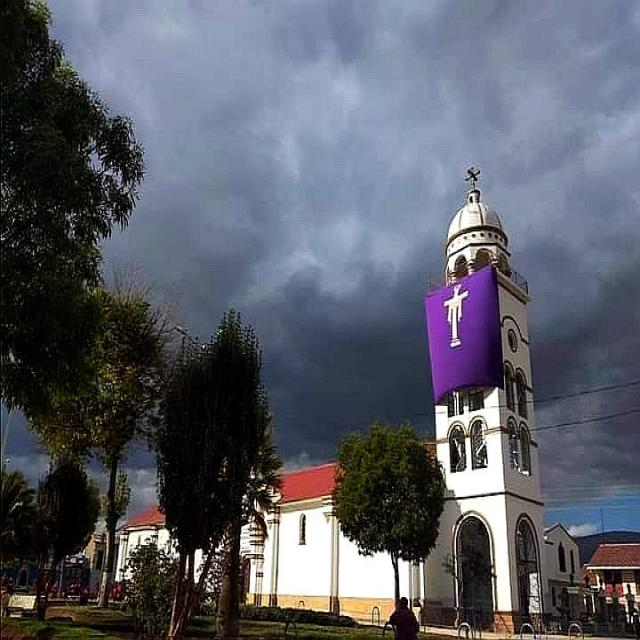CAMPANARIO: (421, 284, 542, 486)
CUPULA: (420, 186, 526, 266)
TORRES: (431, 165, 554, 635)
colonial-architecture-: (2, 0, 589, 630)
